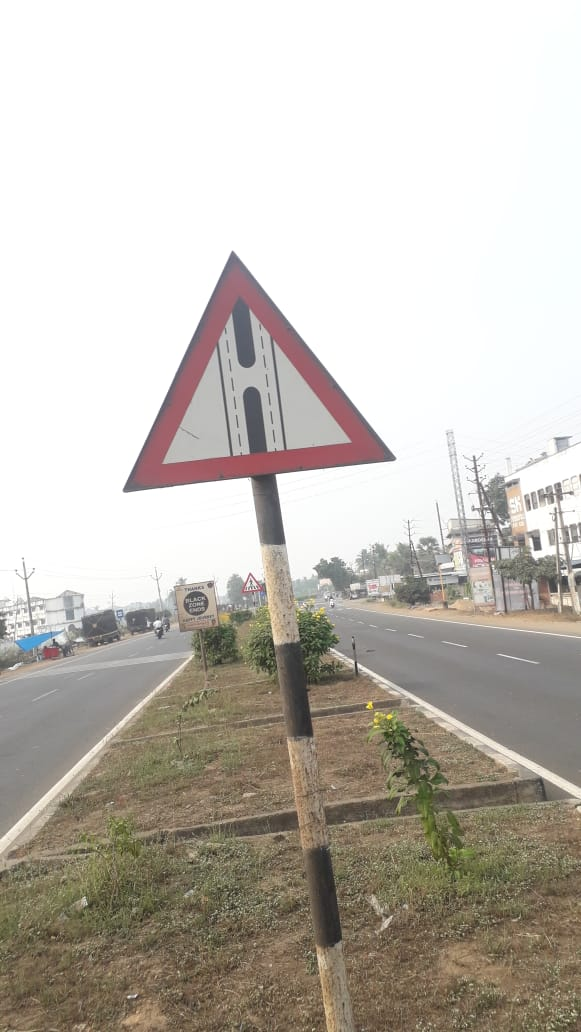highway go straight: (123, 251, 401, 522)
